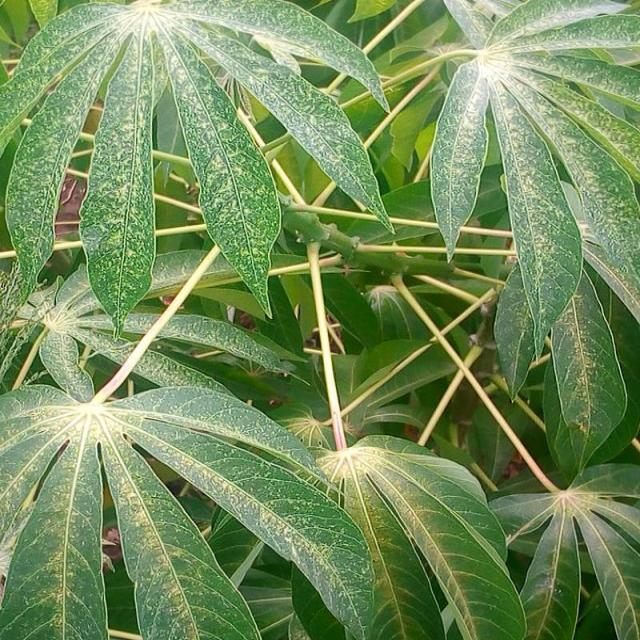cassava leaf: (2, 0, 394, 337), (1, 329, 377, 638), (430, 0, 640, 400)
